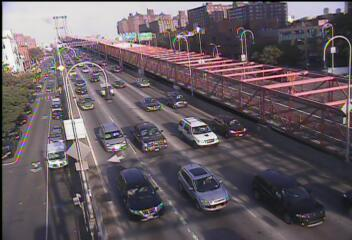neg: (54, 80, 65, 95), (51, 97, 61, 110)
